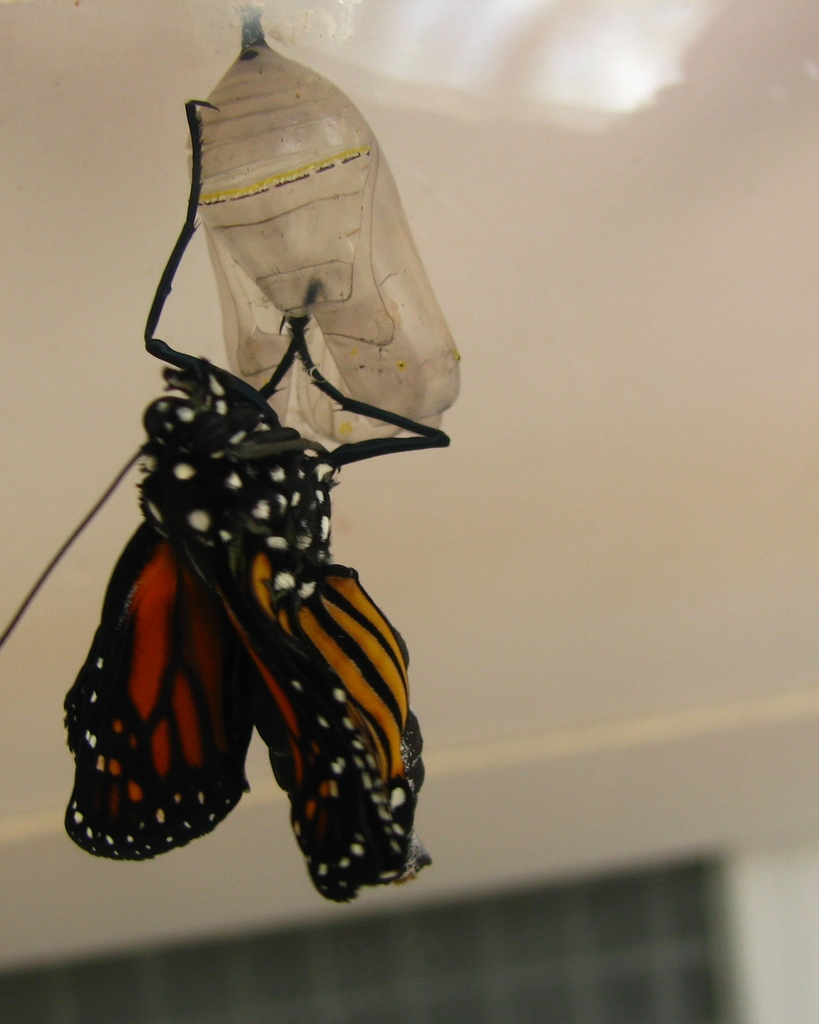Butterfly: (69, 255, 440, 923)
